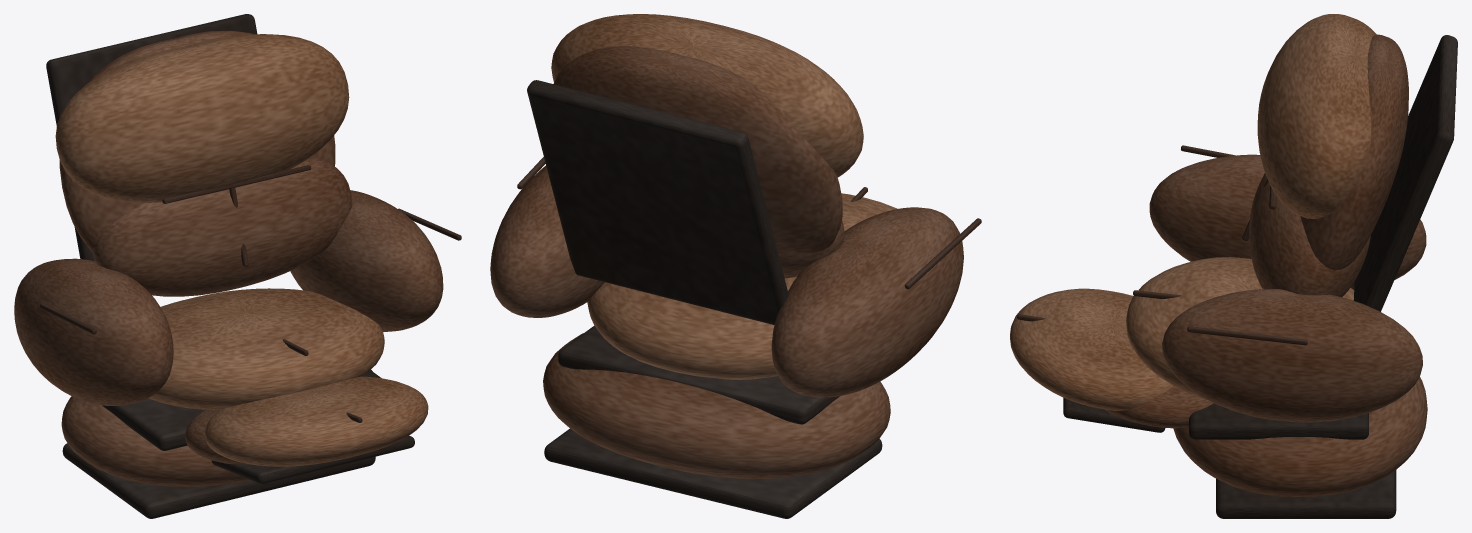
File: refined-deterministic-recliner.glb
3 renders of one model, left to right at view 1: azimuth 30°, elevation 25°; view 2: azimuth 150°, elevation 25°; view 3: azimuth 270°, elevation 25°, orthographic. The views are drawn at different scales.
Visible parts, largest first — view 1: back_cushion_upper, back_cushion_lower, seat_cushion, left_arm, footrest_cushion, right_arm, base_skirt, base, back_continuity_mass, back_frame, seat_frame, footrest_frame (+2 smaller); view 2: back_frame, left_arm, base_skirt, back_continuity_mass, back_cushion_upper, seat_cushion, right_arm, base, seat_frame, back_cushion_lower, footrest_cushion, left_arm_piping; view 3: right_arm, back_cushion_upper, base_skirt, footrest_cushion, back_frame, left_arm, back_continuity_mass, seat_cushion, back_cushion_lower, base, seat_frame, footrest_continuity_shroud (+2 smaller).
Part boxes in pixels (left/top/right/bottom): back_cushion_upper: left=55, top=34, right=349, bottom=202; back_cushion_lower: left=92, top=160, right=352, bottom=296; seat_cushion: left=148, top=288, right=384, bottom=409; left_arm: left=14, top=258, right=173, bottom=405; footrest_cushion: left=205, top=376, right=428, bottom=466; right_arm: left=290, top=190, right=443, bottom=331; base_skirt: left=61, top=370, right=372, bottom=486; base: left=62, top=443, right=375, bottom=518; back_continuity_mass: left=59, top=30, right=335, bottom=251; back_frame: left=46, top=14, right=257, bottom=261; seat_frame: left=102, top=370, right=381, bottom=450; footrest_frame: left=211, top=435, right=414, bottom=484; back_frame: left=527, top=80, right=788, bottom=324; left_arm: left=771, top=207, right=963, bottom=397; base_skirt: left=543, top=333, right=890, bottom=478; back_continuity_mass: left=553, top=46, right=842, bottom=252; back_cushion_upper: left=551, top=14, right=863, bottom=177; seat_cushion: left=587, top=277, right=796, bottom=379; right_arm: left=490, top=165, right=604, bottom=317; base: left=544, top=428, right=882, bottom=518; seat_frame: left=558, top=325, right=839, bottom=424; back_cushion_lower: left=776, top=220, right=844, bottom=278; footrest_cushion: left=841, top=193, right=897, bottom=231; left_arm_piping: left=904, top=218, right=981, bottom=289; right_arm: left=1162, top=289, right=1422, bottom=422; back_cushion_upper: left=1257, top=14, right=1375, bottom=219; base_skirt: left=1173, top=377, right=1427, bottom=496; footrest_cushion: left=1010, top=288, right=1173, bottom=410; back_frame: left=1353, top=35, right=1457, bottom=311; left_arm: left=1149, top=154, right=1426, bottom=289; back_continuity_mass: left=1300, top=34, right=1408, bottom=270; seat_cushion: left=1126, top=257, right=1354, bottom=399; back_cushion_lower: left=1249, top=173, right=1370, bottom=296; base: left=1216, top=470, right=1396, bottom=518; seat_frame: left=1189, top=403, right=1368, bottom=439; footrest_continuity_shroud: left=1104, top=386, right=1213, bottom=428.
Bounding box in the file's own units: 1.94 × 2.02 × 1.99.
4 materials, 4 textured.
